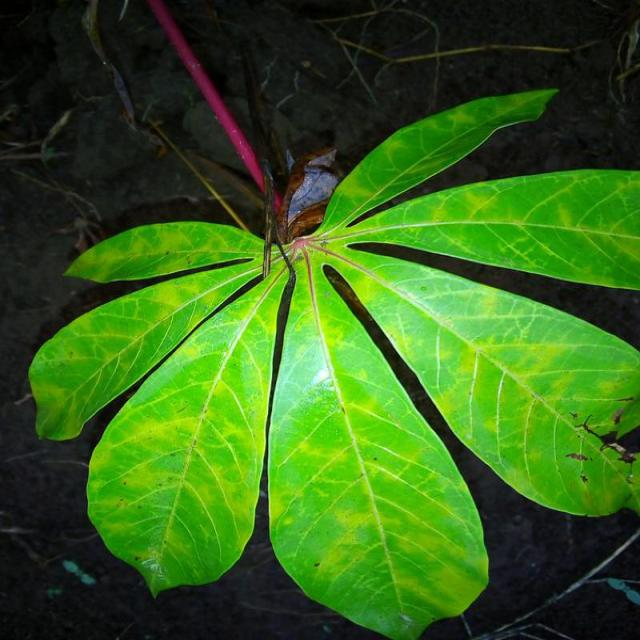cassava leaf: (26, 19, 638, 636), (266, 243, 489, 638), (85, 255, 282, 598)
